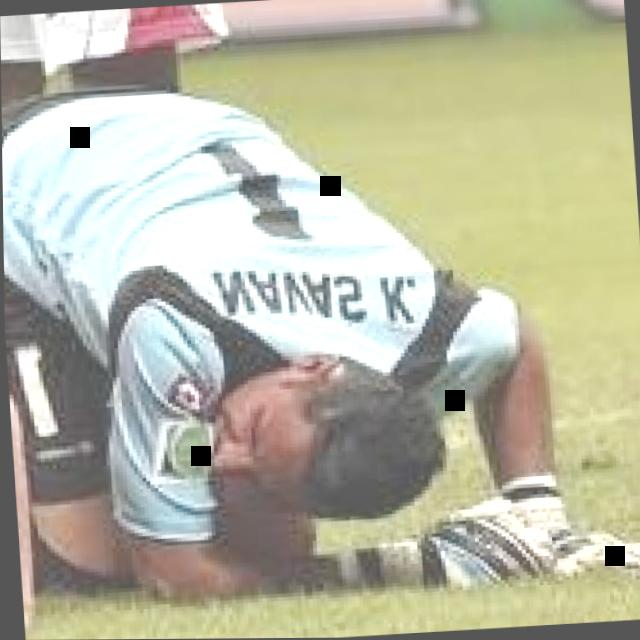Fall-Detected: (1, 52, 640, 620)
